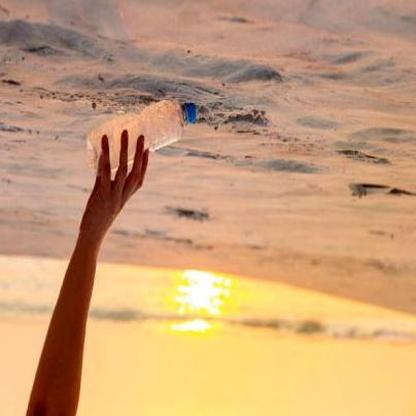plastic bottle: (87, 100, 196, 166)
